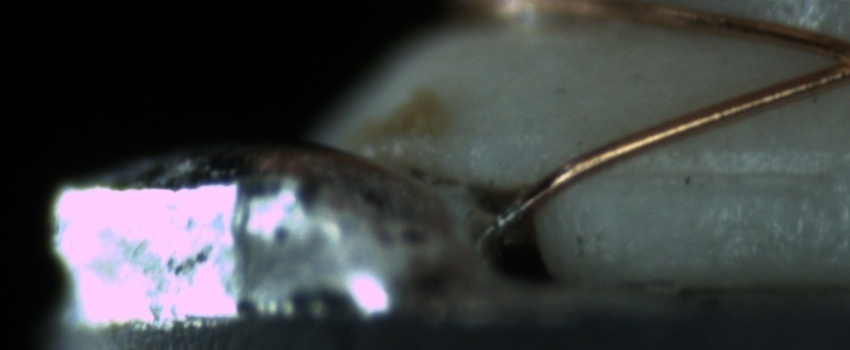CL: (803, 27, 850, 90)
DL: (613, 139, 845, 211)
